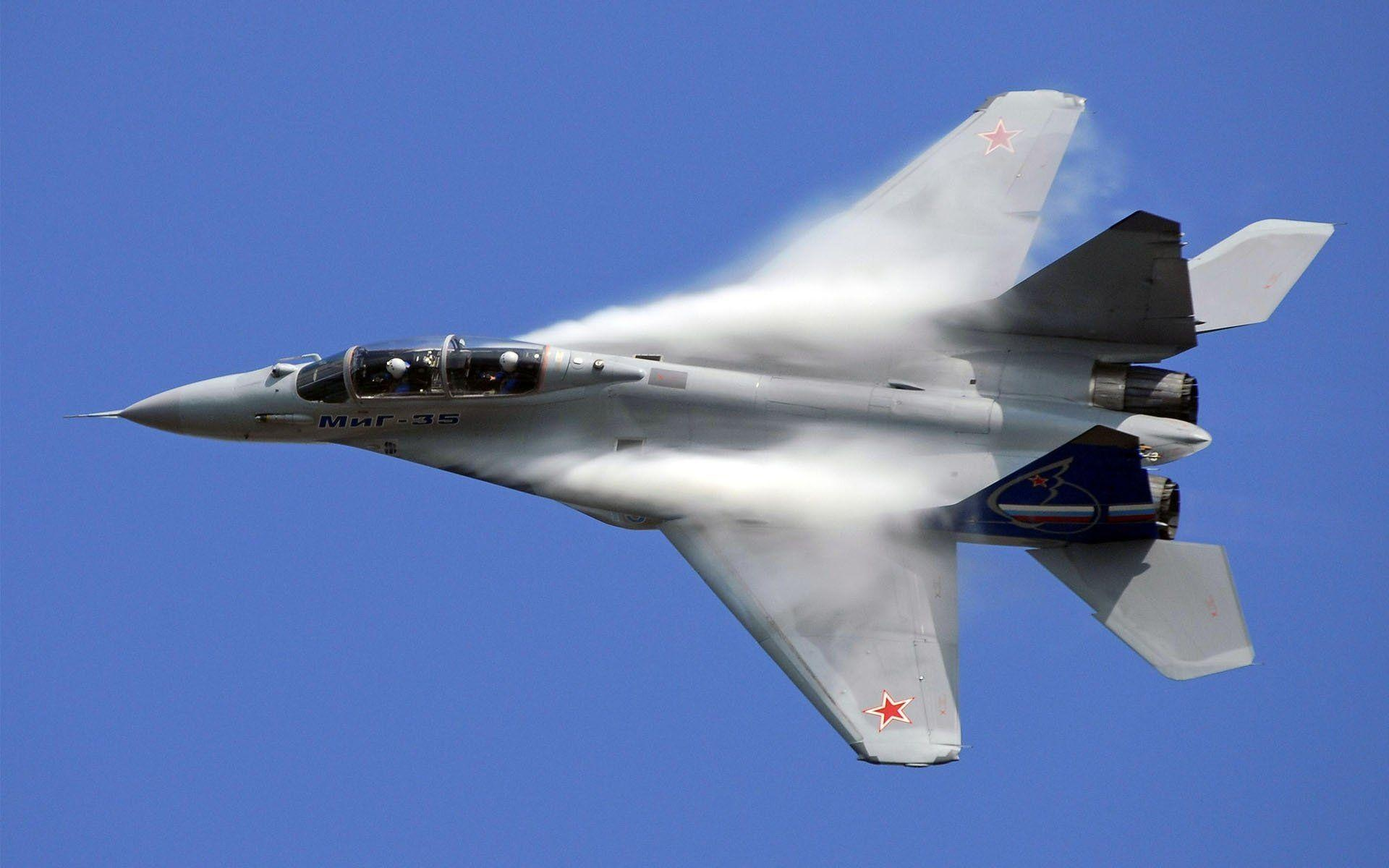aircraft: (116, 88, 1351, 766)
